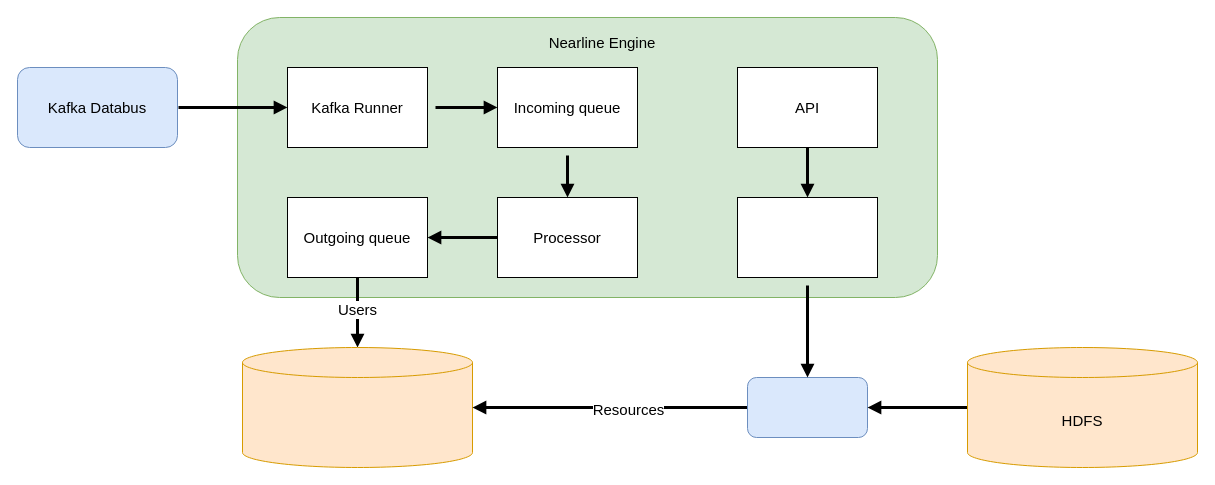
This 1215x485 diagram has some shape labels left out. The shapes that lost their labels are listed below. From the top down, each one's box as (x1, y1, x2, y2) in pixels, then its label:
(736, 196, 878, 278): Spark Controller
(242, 346, 472, 468): PostgreSQL/ HBase
(746, 376, 868, 438): Spark
